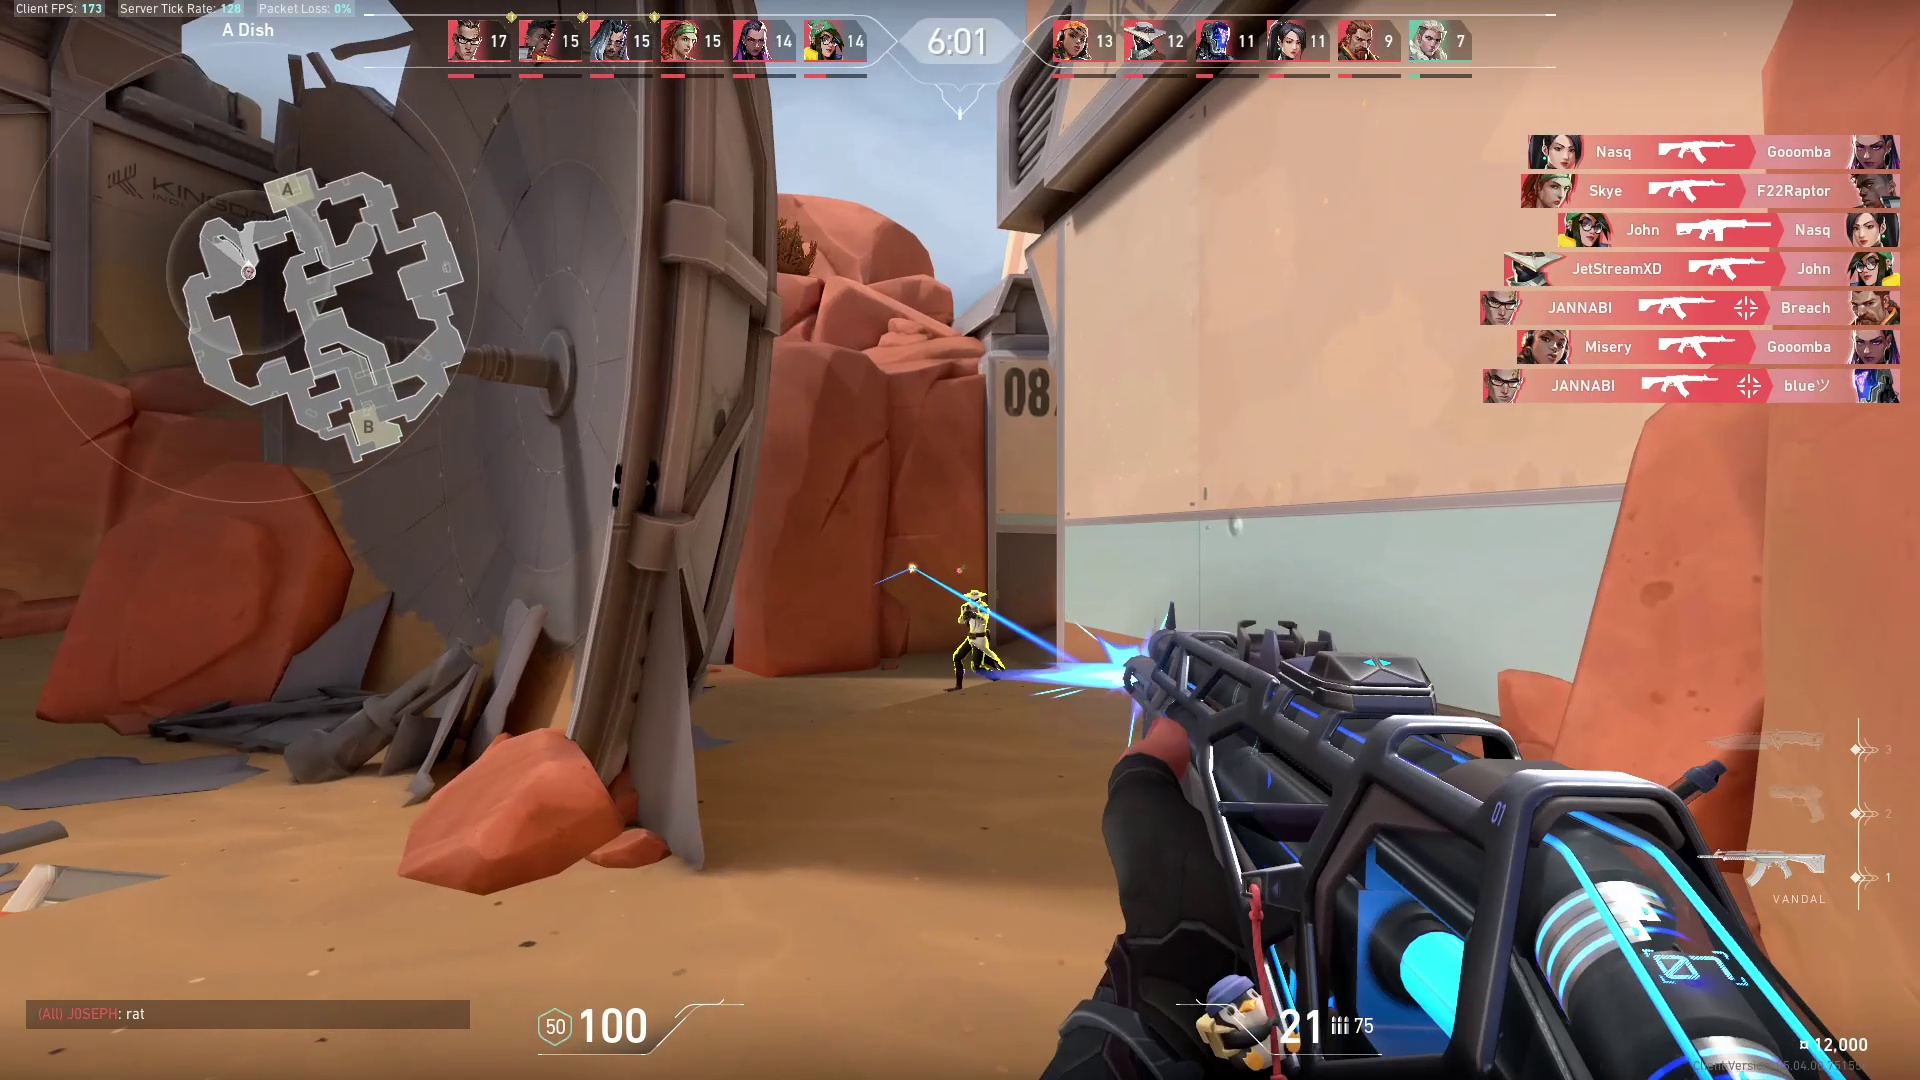enemy_body: (949, 605, 1015, 692)
enemy_head: (963, 585, 988, 611)
